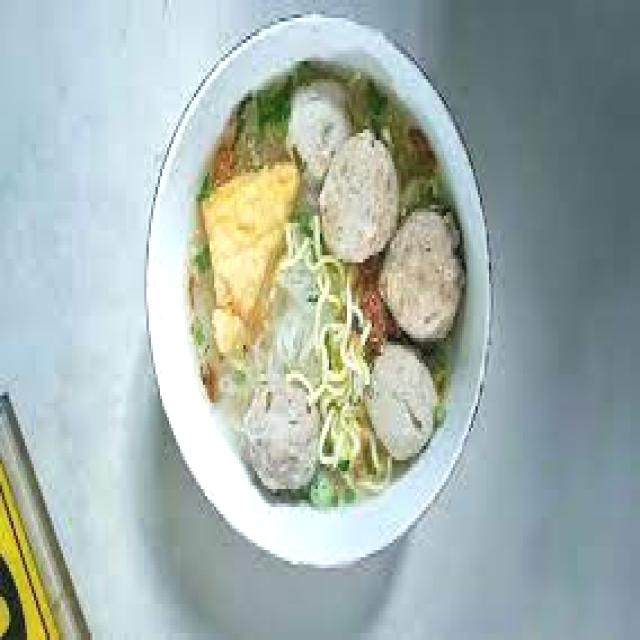bakso: (194, 58, 466, 507)
